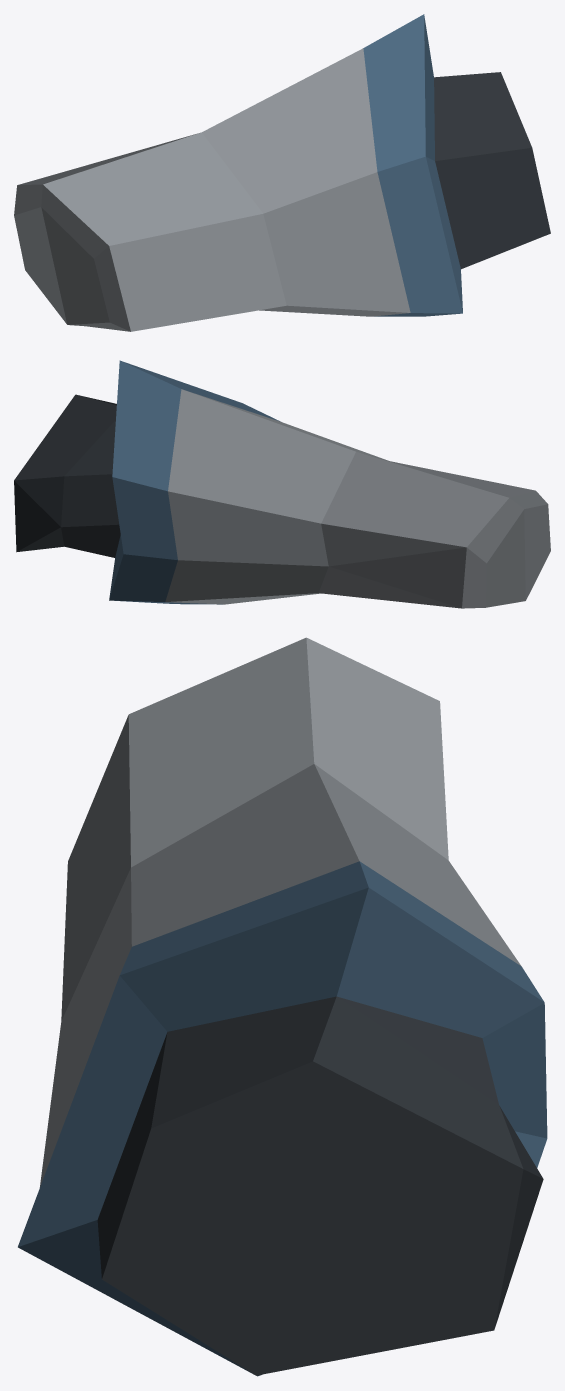
The model's file is Chr_ArmLowerRight_Male_07_Static.fbx.
3 renders of one model, top to bottom at view 1: azimuth 30°, elevation 25°; view 2: azimuth 150°, elevation 25°; view 3: azimuth 270°, elevation 25°, orthographic. The views are drawn at different scales.
Parts seen in each view (by area): view 1: Chr_ArmLowerRight_Male_07_Static; view 2: Chr_ArmLowerRight_Male_07_Static; view 3: Chr_ArmLowerRight_Male_07_Static.
Boxes of the visible parts, bbox=[...] form: Chr_ArmLowerRight_Male_07_Static: bbox=[14, 14, 550, 331]; Chr_ArmLowerRight_Male_07_Static: bbox=[14, 360, 550, 608]; Chr_ArmLowerRight_Male_07_Static: bbox=[18, 637, 547, 1376].
Size of the model in its own units: 0.2894 by 0.1568 by 0.1462.
